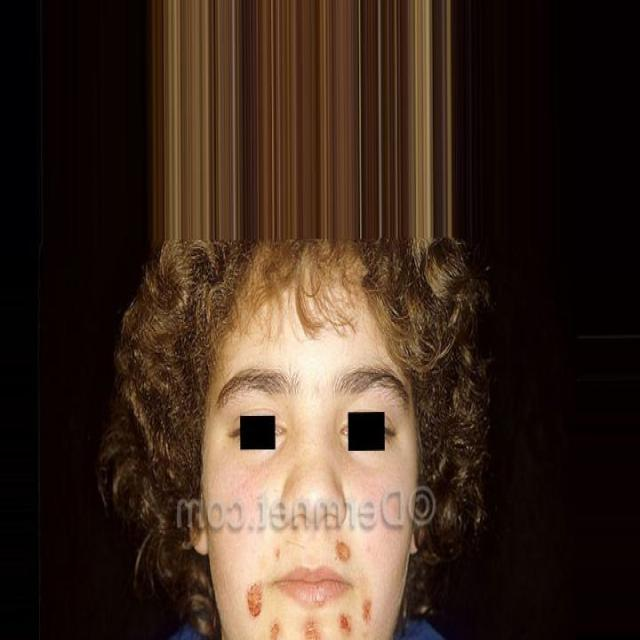acne: (242, 577, 266, 621), (328, 542, 356, 576), (334, 612, 360, 639), (302, 614, 324, 638), (361, 594, 378, 624), (270, 616, 287, 640)
